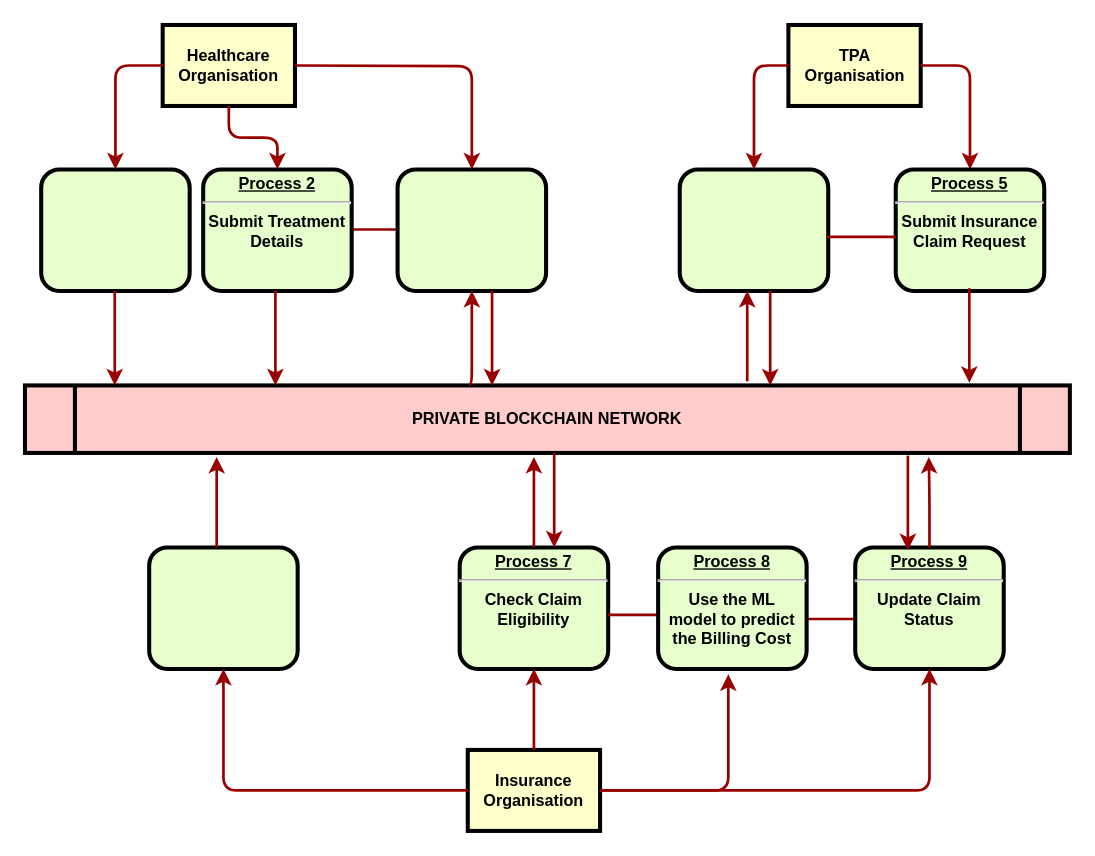
Some shapes in this 1095 by 856 pixel diagram are drawn without their labels. The centre of each missing label's shape, as x and y in pixels:
Process 1 Submit Patient Details: point (114, 229)
Process 3 Train & update the Global ML model: point (471, 229)
Process 4 Verify Patient ID & Treatment ID: point (753, 229)
Process 6 Submit Insurance Details: point (222, 607)
